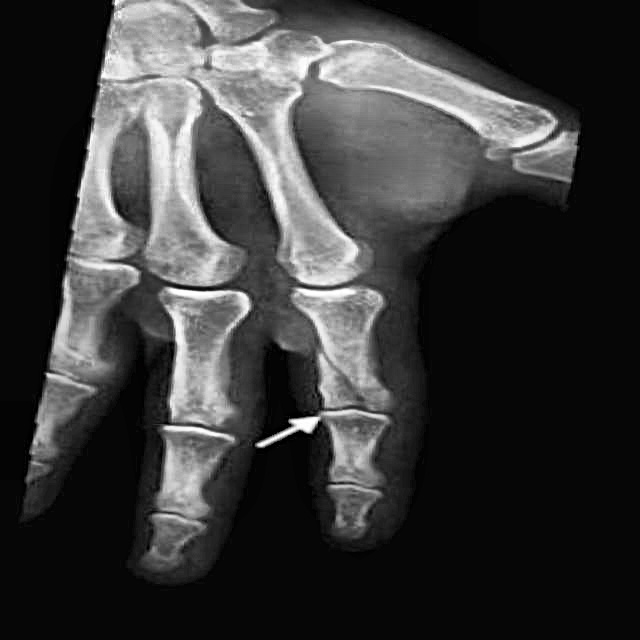Oblique Displaced: (300, 344, 405, 438)
